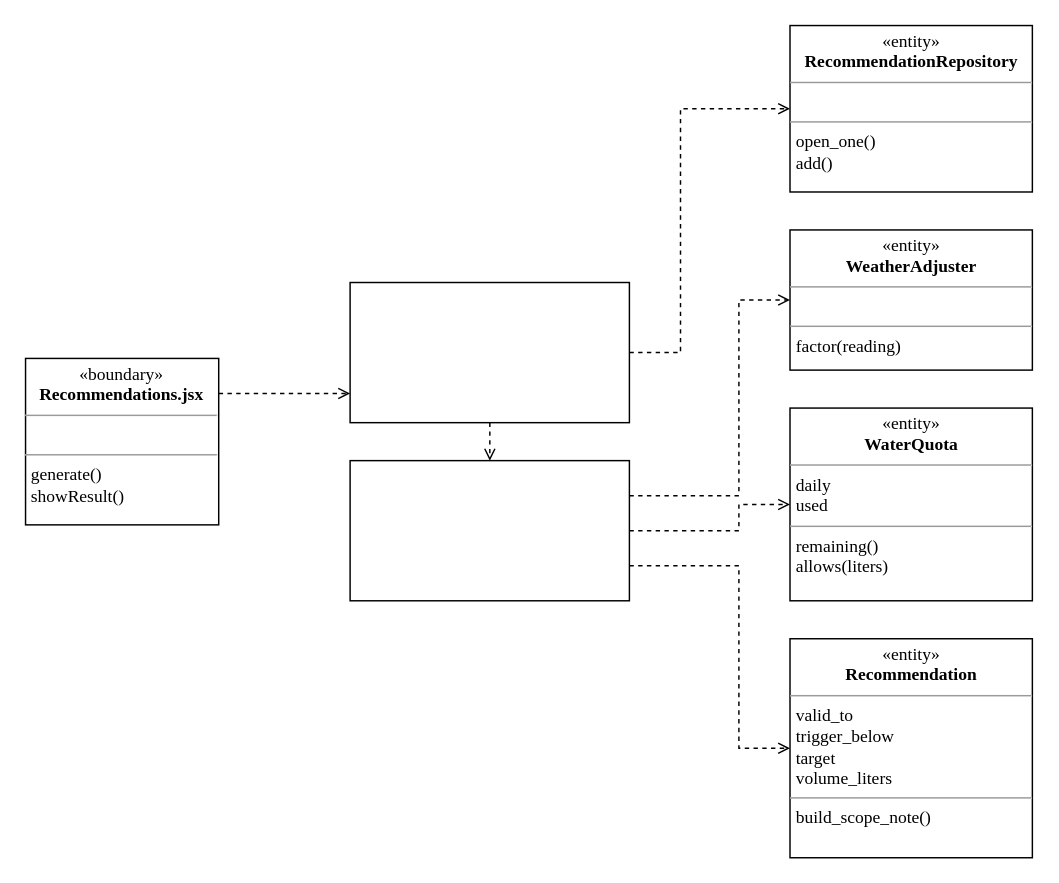
This 1059x883 diagram has some shape labels left out. The shapes that lost their labels are listed below. From the top down, each one's centre as x and y in pixels, then its label:
At (489,352): "«control» IrrigationService generate(user_id)".
At (489,530): "«control» RecommendationEngine propose(plant, reading, quota, now)".
